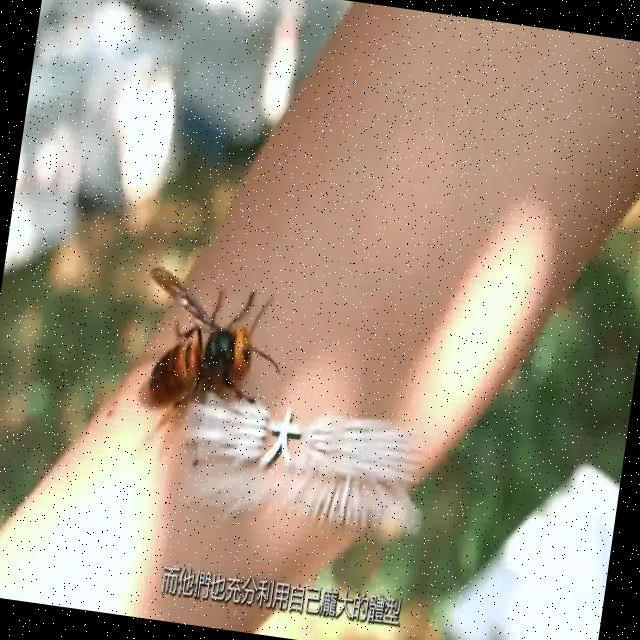Wasp: (119, 251, 277, 408)
